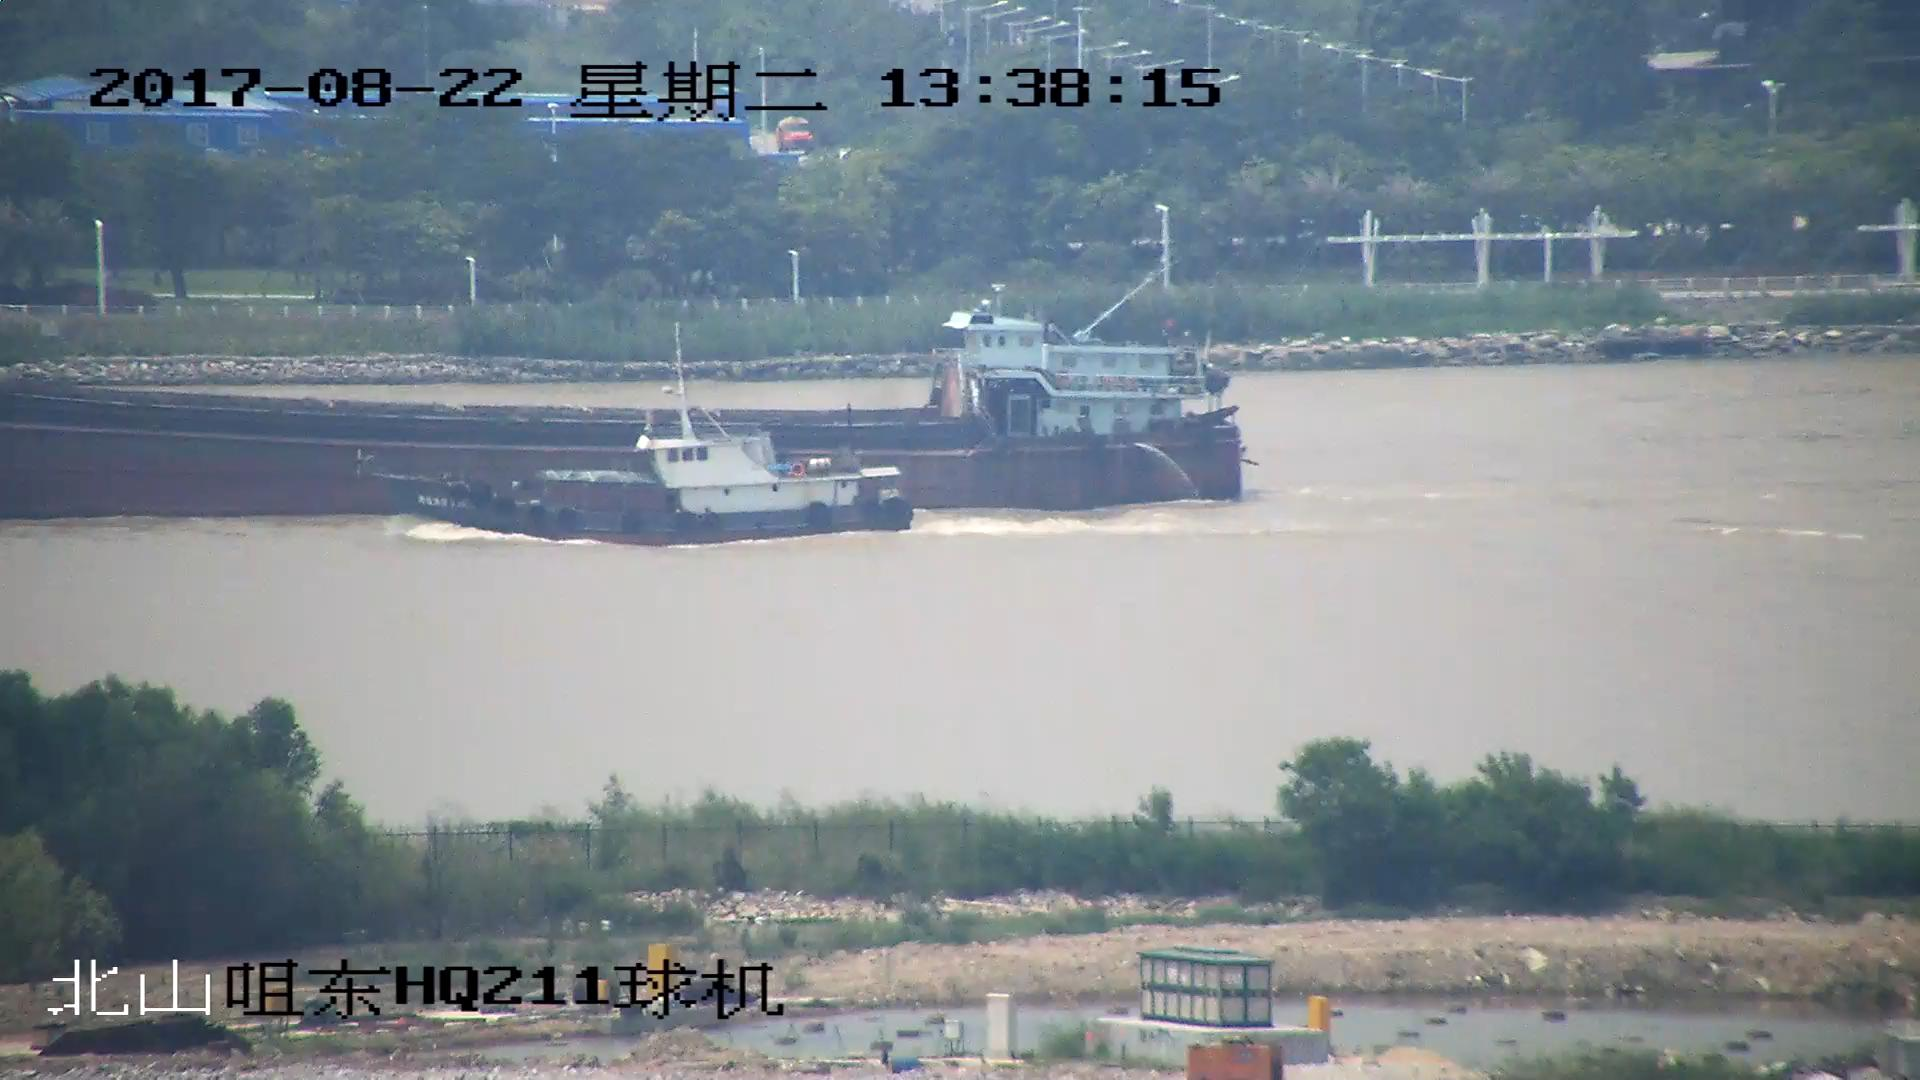bulk cargo carrier: (1, 284, 1251, 516)
passenger ship: (414, 327, 914, 546)
